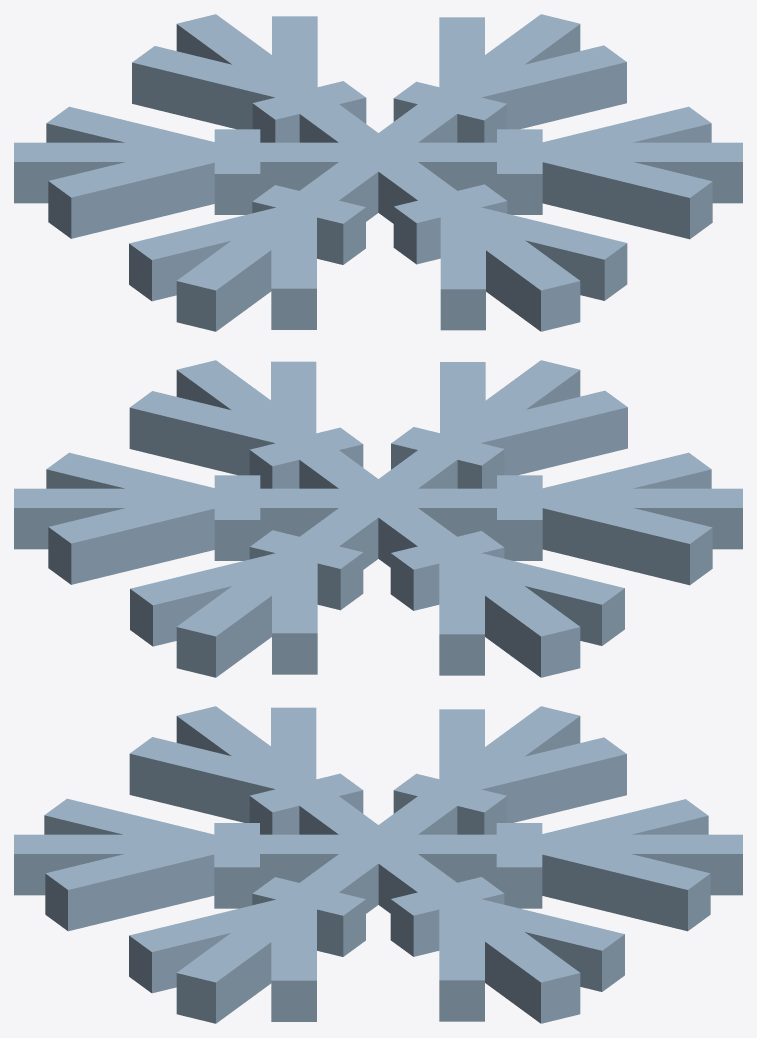
The model's file is Schneeflocke.fbx.
3 renders of one model, top to bottom at view 1: azimuth 30°, elevation 25°; view 2: azimuth 150°, elevation 25°; view 3: azimuth 270°, elevation 25°, orthographic.
Visible parts, largest first — view 1: Cube.000; view 2: Cube.000; view 3: Cube.000.
Part boxes in pixels (left/top/right/bottom): Cube.000: left=14, top=14, right=742, bottom=331; Cube.000: left=14, top=360, right=742, bottom=677; Cube.000: left=14, top=706, right=742, bottom=1023.
Bounding box in the file's own units: 638 × 44.47 × 712.
